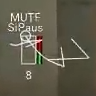hacks_1: (7, 12, 90, 80)
